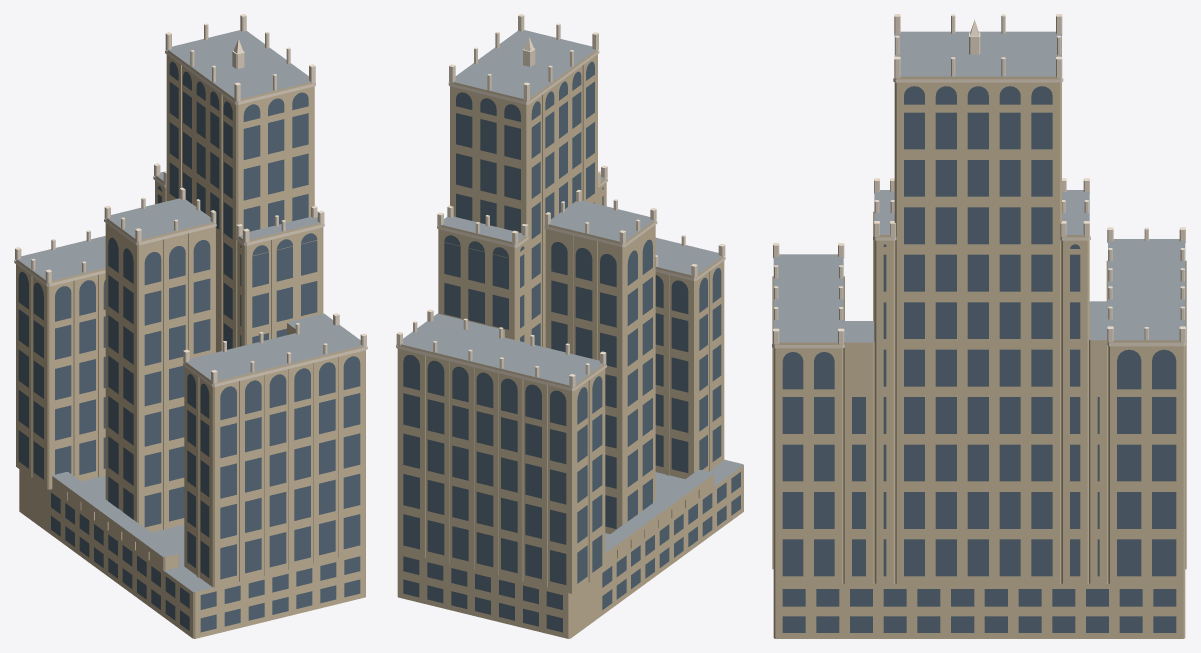
The model's file is sf-russ-building.glb.
The picture shows the model from 3 angles, left to right: view 1: azimuth 30°, elevation 25°; view 2: azimuth 150°, elevation 25°; view 3: azimuth 270°, elevation 25°; orthographic projection. The views are drawn at different scales.
Parts seen in each view (by area): view 1: Russ Building; view 2: Russ Building; view 3: Russ Building.
Part boxes in pixels (<box>): Russ Building: <box>14,14,367,638</box>; Russ Building: <box>396,14,743,638</box>; Russ Building: <box>772,14,1186,638</box>.
Size of the model in its own units: 50.1 by 136 by 85.6.
